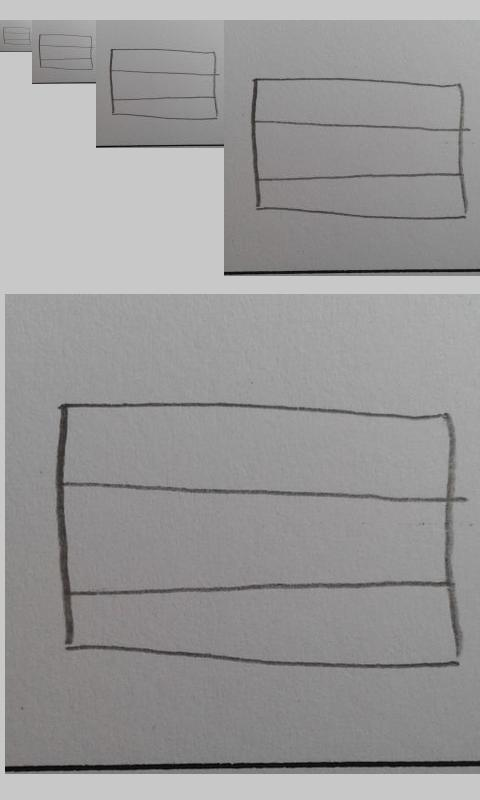list_view: (53, 397, 465, 673), (249, 75, 470, 225), (108, 46, 220, 123), (38, 33, 94, 71), (2, 26, 31, 46)
